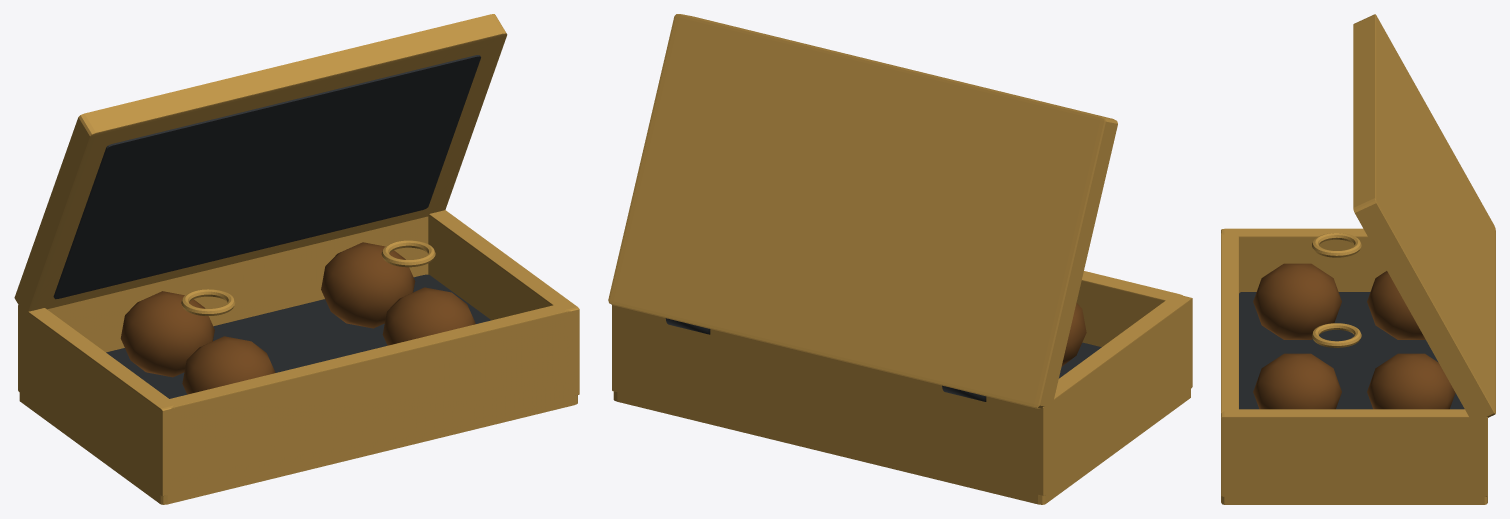
The picture shows the model from 3 angles, left to right: view 1: azimuth 30°, elevation 25°; view 2: azimuth 150°, elevation 25°; view 3: azimuth 270°, elevation 25°; orthographic projection. The views are drawn at different scales.
Parts seen in each view (by area): view 1: TI043 / lid lining, TI043 / case end, TI043 / separate lid panel, TI043 / case side, TI043 / case end.001, TI043 / case bottom, TI043 / case side.001, TI043 / case liner, TI043 / individual filled chocolate.001, TI043 / individual filled chocolate.003, TI043 / individual filled chocolate.002, TI043 / individual filled chocolate (+2 smaller); view 2: TI043 / separate lid panel, TI043 / case end.001, TI043 / case side, TI043 / case bottom, TI043 / case end, TI043 / case side.001, TI043 / individual filled chocolate; view 3: TI043 / separate lid panel, TI043 / case side.001, TI043 / case liner, TI043 / case side, TI043 / individual filled chocolate, TI043 / case bottom, TI043 / individual filled chocolate.002, TI043 / individual filled chocolate.003, TI043 / case end, TI043 / individual filled chocolate.001, TI043 / case lid ornament.001, TI043 / case lid ornament.
Boxes of the visible parts, x1=… form: TI043 / lid lining: x1=53, y1=55, x2=480, y2=299; TI043 / case end: x1=166, y1=304, x2=570, y2=474; TI043 / separate lid panel: x1=14, y1=14, x2=507, y2=312; TI043 / case side: x1=18, y1=305, x2=178, y2=496; TI043 / case end.001: x1=47, y1=216, x2=428, y2=352; TI043 / case bottom: x1=19, y1=378, x2=577, y2=504; TI043 / case side.001: x1=428, y1=210, x2=579, y2=395; TI043 / case liner: x1=106, y1=274, x2=491, y2=398; TI043 / individual filled chocolate.001: x1=120, y1=291, x2=214, y2=377; TI043 / individual filled chocolate.003: x1=321, y1=242, x2=415, y2=328; TI043 / individual filled chocolate.002: x1=382, y1=287, x2=475, y2=345; TI043 / individual filled chocolate: x1=182, y1=336, x2=275, y2=394; TI043 / separate lid panel: x1=608, y1=14, x2=1117, y2=408; TI043 / case end.001: x1=625, y1=308, x2=1029, y2=492; TI043 / case side: x1=1026, y1=294, x2=1192, y2=496; TI043 / case bottom: x1=613, y1=371, x2=1190, y2=504; TI043 / case end: x1=1076, y1=271, x2=1182, y2=346; TI043 / case side.001: x1=612, y1=305, x2=628, y2=394; TI043 / individual filled chocolate: x1=1061, y1=303, x2=1086, y2=366; TI043 / separate lid panel: x1=1353, y1=14, x2=1495, y2=422; TI043 / case side.001: x1=1221, y1=409, x2=1487, y2=496; TI043 / case liner: x1=1239, y1=292, x2=1464, y2=409; TI043 / case side: x1=1221, y1=228, x2=1386, y2=293; TI043 / individual filled chocolate: x1=1253, y1=263, x2=1341, y2=339; TI043 / case bottom: x1=1221, y1=480, x2=1487, y2=504; TI043 / individual filled chocolate.002: x1=1253, y1=353, x2=1341, y2=409; TI043 / individual filled chocolate.003: x1=1367, y1=353, x2=1455, y2=409; TI043 / case end: x1=1221, y1=233, x2=1238, y2=412; TI043 / individual filled chocolate.001: x1=1367, y1=271, x2=1425, y2=339; TI043 / case lid ornament.001: x1=1312, y1=323, x2=1361, y2=347; TI043 / case lid ornament: x1=1312, y1=233, x2=1361, y2=257.
Bounding box in the file's own units: 2.5 × 1.89 × 1.54.
